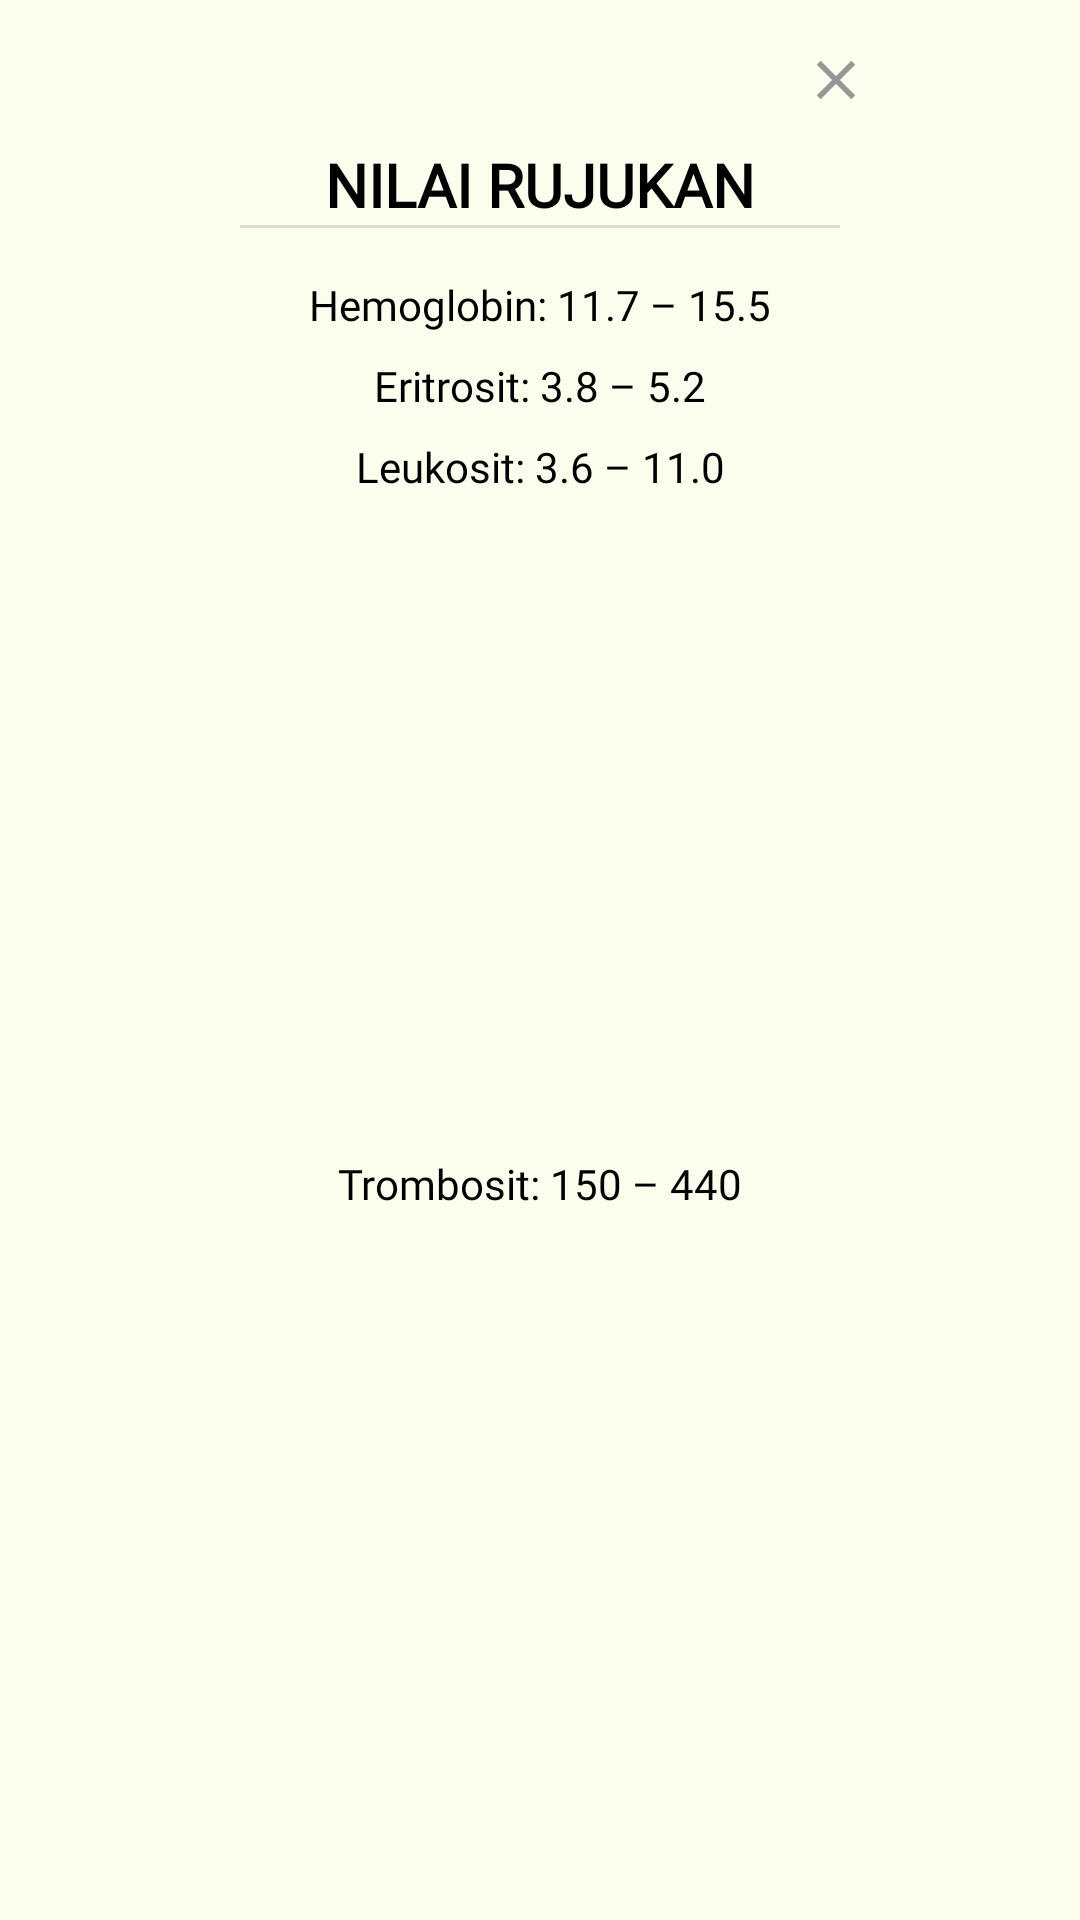

Point at icon controls on the screen. Image size 1080x1920, points as (x,y).
close: (836,80)
